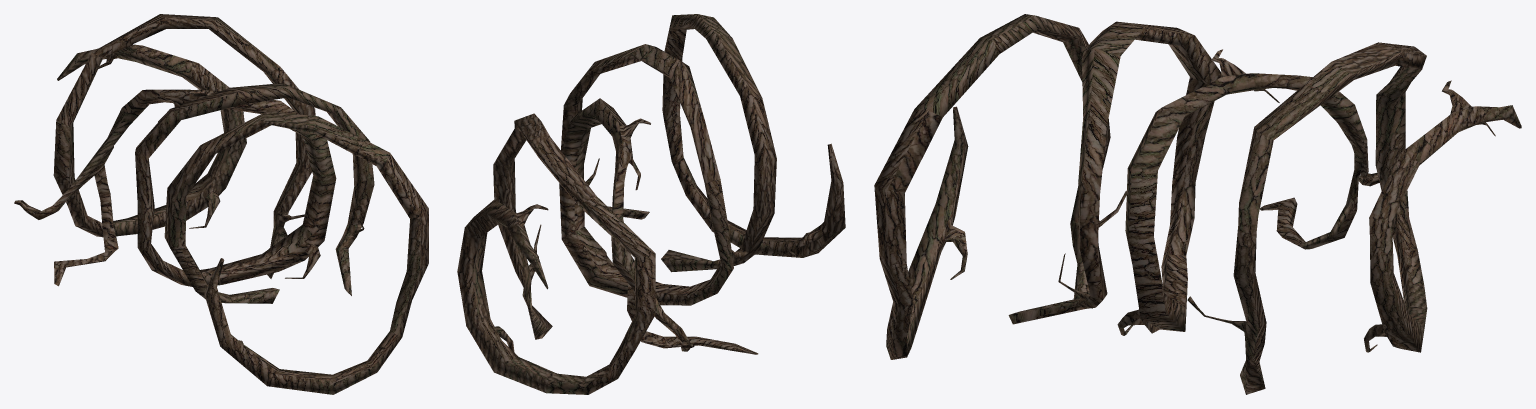
The model's file is block-chain-roots-art.glb.
3 renders of one model, left to right at view 1: azimuth 30°, elevation 25°; view 2: azimuth 150°, elevation 25°; view 3: azimuth 270°, elevation 25°, orthographic. The views are drawn at different scales.
Visible parts, largest first — view 1: BlockChain_Roots_Art; view 2: BlockChain_Roots_Art; view 3: BlockChain_Roots_Art.
Part boxes in pixels (bbox=[...]): BlockChain_Roots_Art: bbox=[14, 14, 428, 394]; BlockChain_Roots_Art: bbox=[457, 14, 845, 394]; BlockChain_Roots_Art: bbox=[874, 14, 1521, 394].
Bounding box in the file's own units: 7.41 × 6.94 × 12.49.
1 material, 1 textured.
